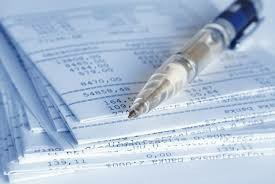pen: (120, 1, 261, 124)
